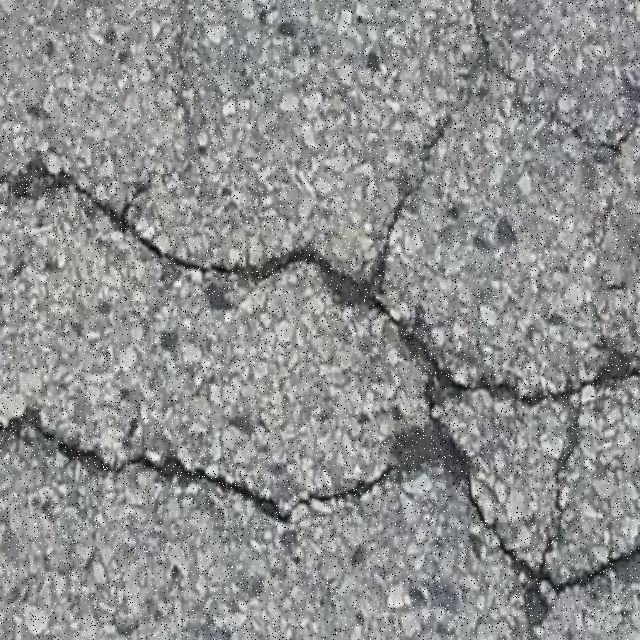Crack: (124, 424, 640, 639), (0, 139, 437, 309), (378, 308, 640, 562), (472, 0, 640, 238), (0, 408, 120, 473), (175, 0, 188, 136)
